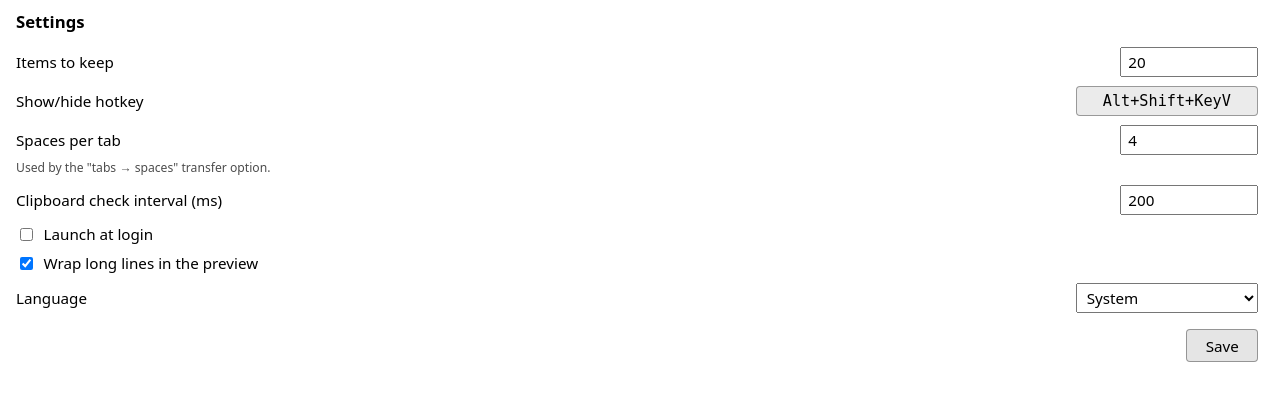
Test: SettingsWindow — hotkey recorder › ignores a combination without modifiers, which could not be global
Expected: the number field labelled "Items to keep" is shown, [1120,47,1258,77]
Click the button named "Show/hide hotkey" at (1167, 101), box [1076,86,1258,116]
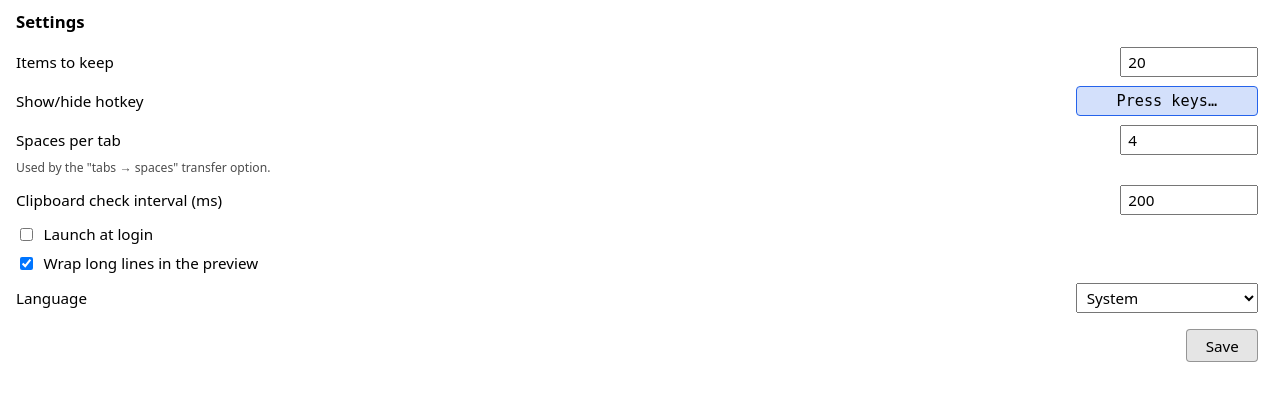
Press k
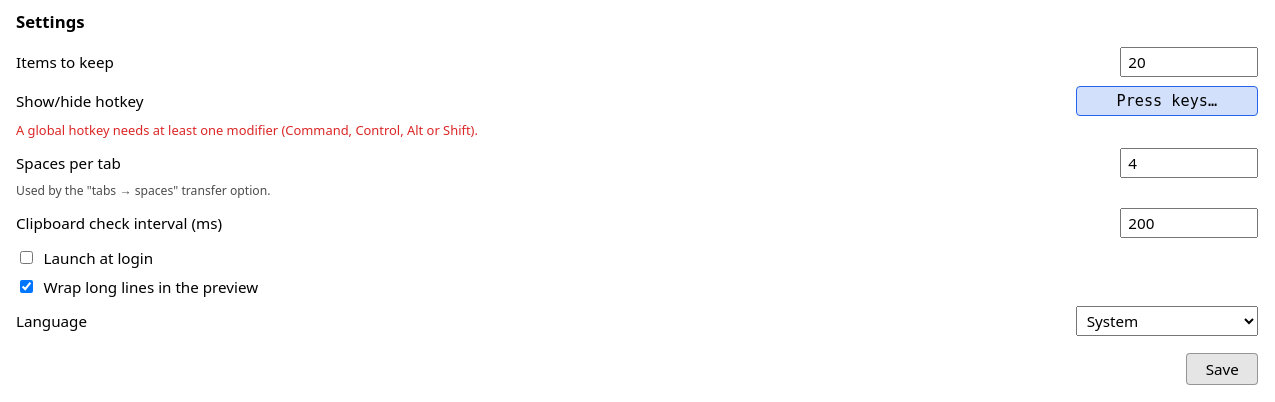
Now the button named "Show/hide hotkey" reads "Press keys…", box [1076,86,1258,116]
Now the text with test id "error-hotkey" reads "A global hotkey needs at least one modifier (Command, Control, Alt or Shift).", box [16,121,478,139]
